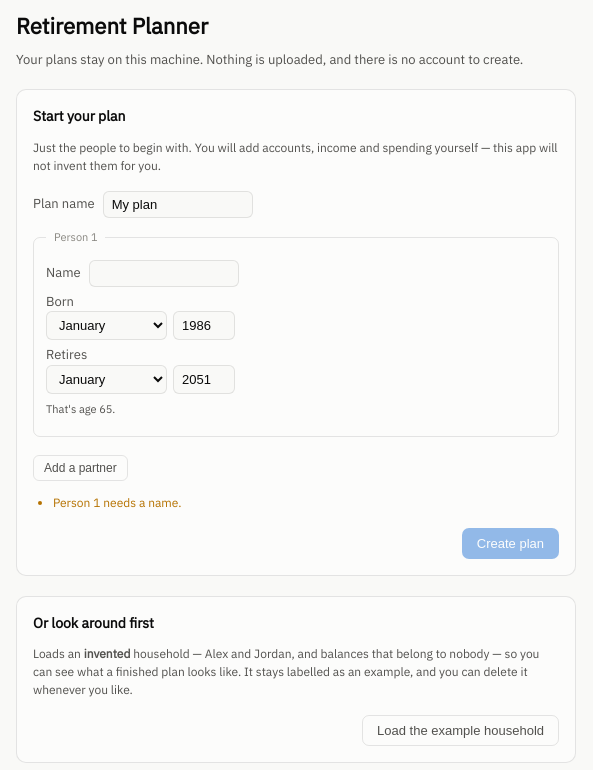
WelcomeScreen › will not create a plan for a nameless person
This screenshot has width=593, height=770.
Expected: the button "Create plan" is disabled, [462, 528, 559, 559]
Expected: the list item "Person 1 needs a name." is shown, [53, 495, 182, 510]
In the field labelled "Name": (164, 273) [89, 260, 239, 287], type "Sam"
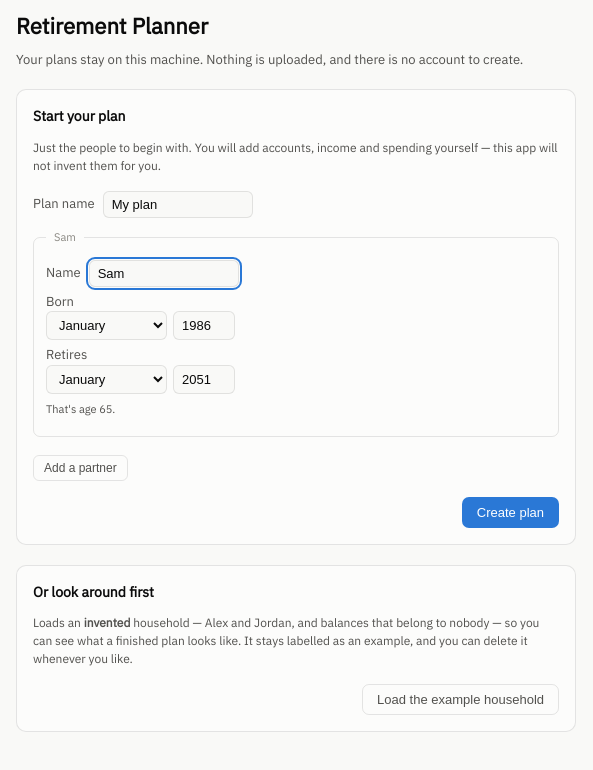
Expected: the button "Create plan" is enabled, [462, 497, 559, 528]
